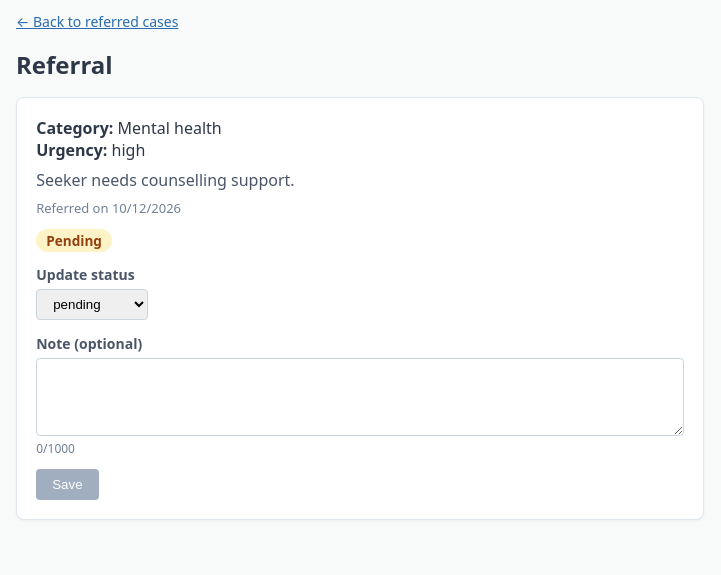
Test case: ReferralDetail › saving › shows the server message when saving fails
The width and height of the screenshot is (721, 575).
Select "in progress" in the dropdown labelled "Update status" at coordinates (92, 305), box [36, 289, 148, 320]
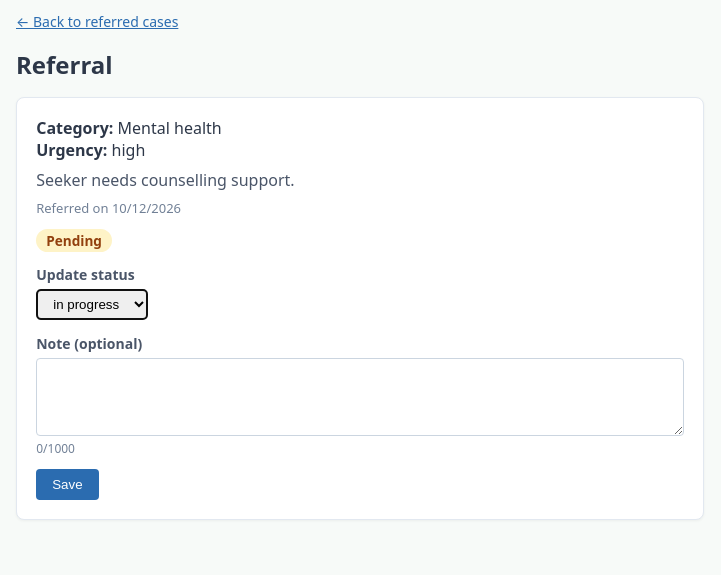
Click the button "Save" at coordinates (67, 485), box [36, 469, 99, 500]
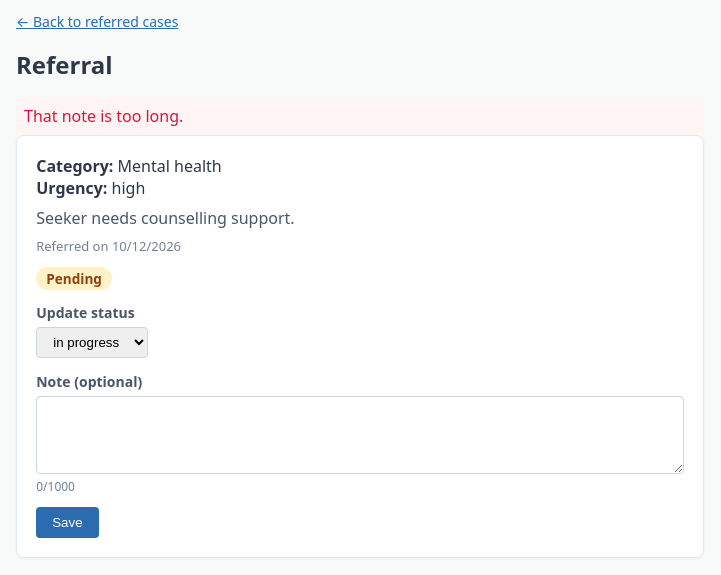
Expected: the message reads "That note is too long.", [24, 105, 183, 127]
